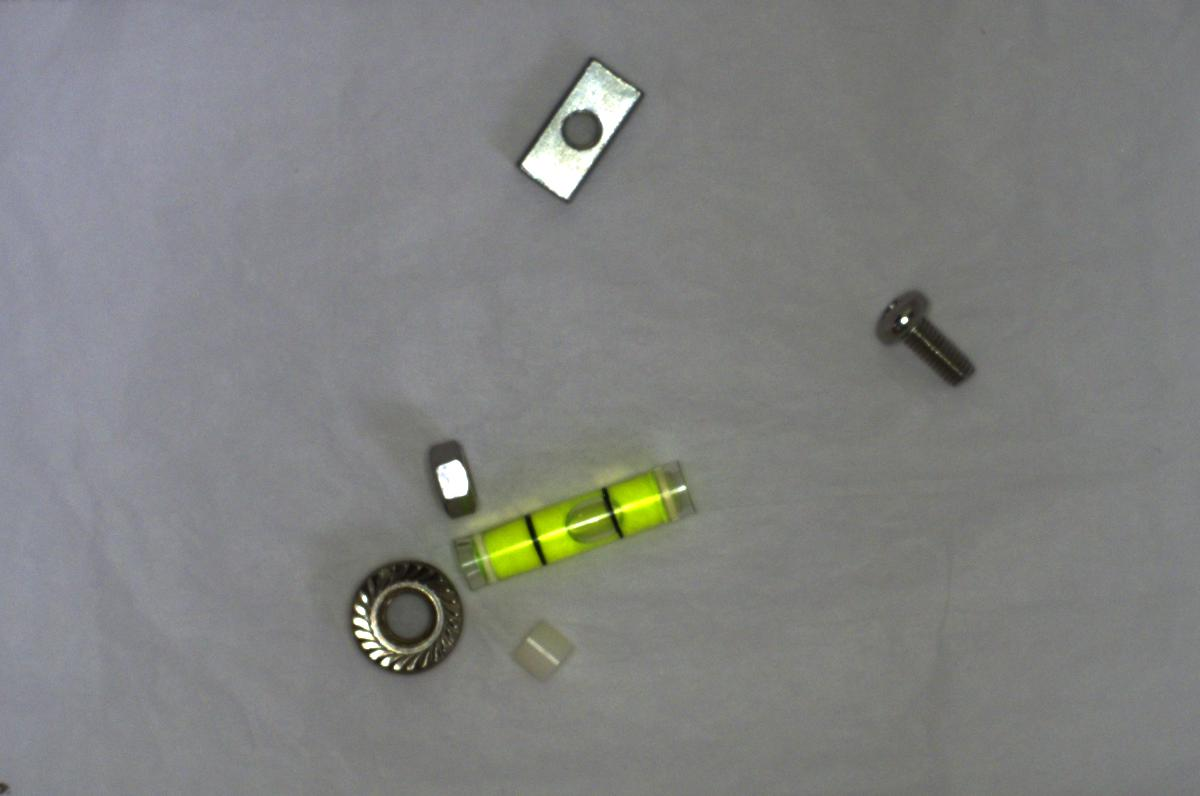Flange nut: (334, 552, 467, 683)
Hexagon nut: (415, 427, 486, 525)
Horizontal bubble: (445, 455, 699, 599)
Plastic cushion pillar: (498, 613, 579, 688)
Rectangular nut: (513, 48, 642, 202)
Round head screw: (864, 287, 984, 394)
